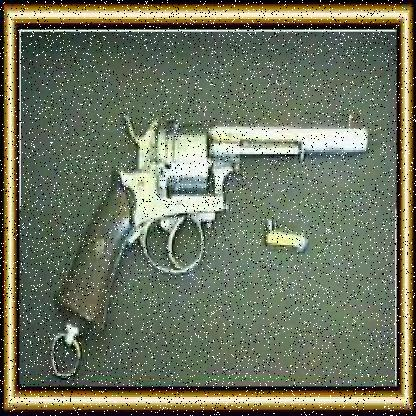pistol: (51, 110, 373, 338)
